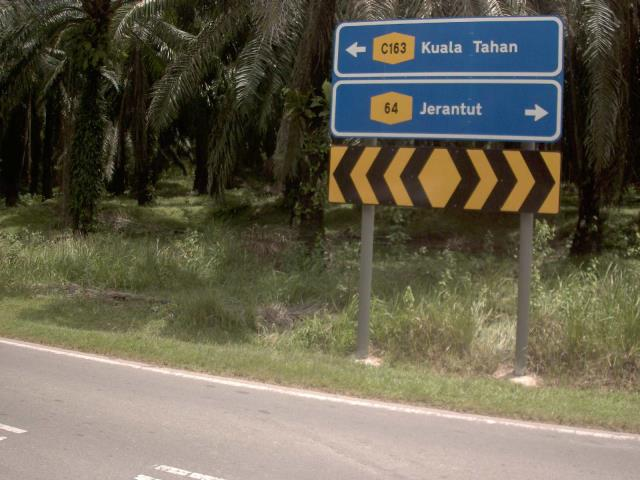ads_sign: (321, 139, 567, 222)
traffic_sign: (313, 4, 574, 154)
